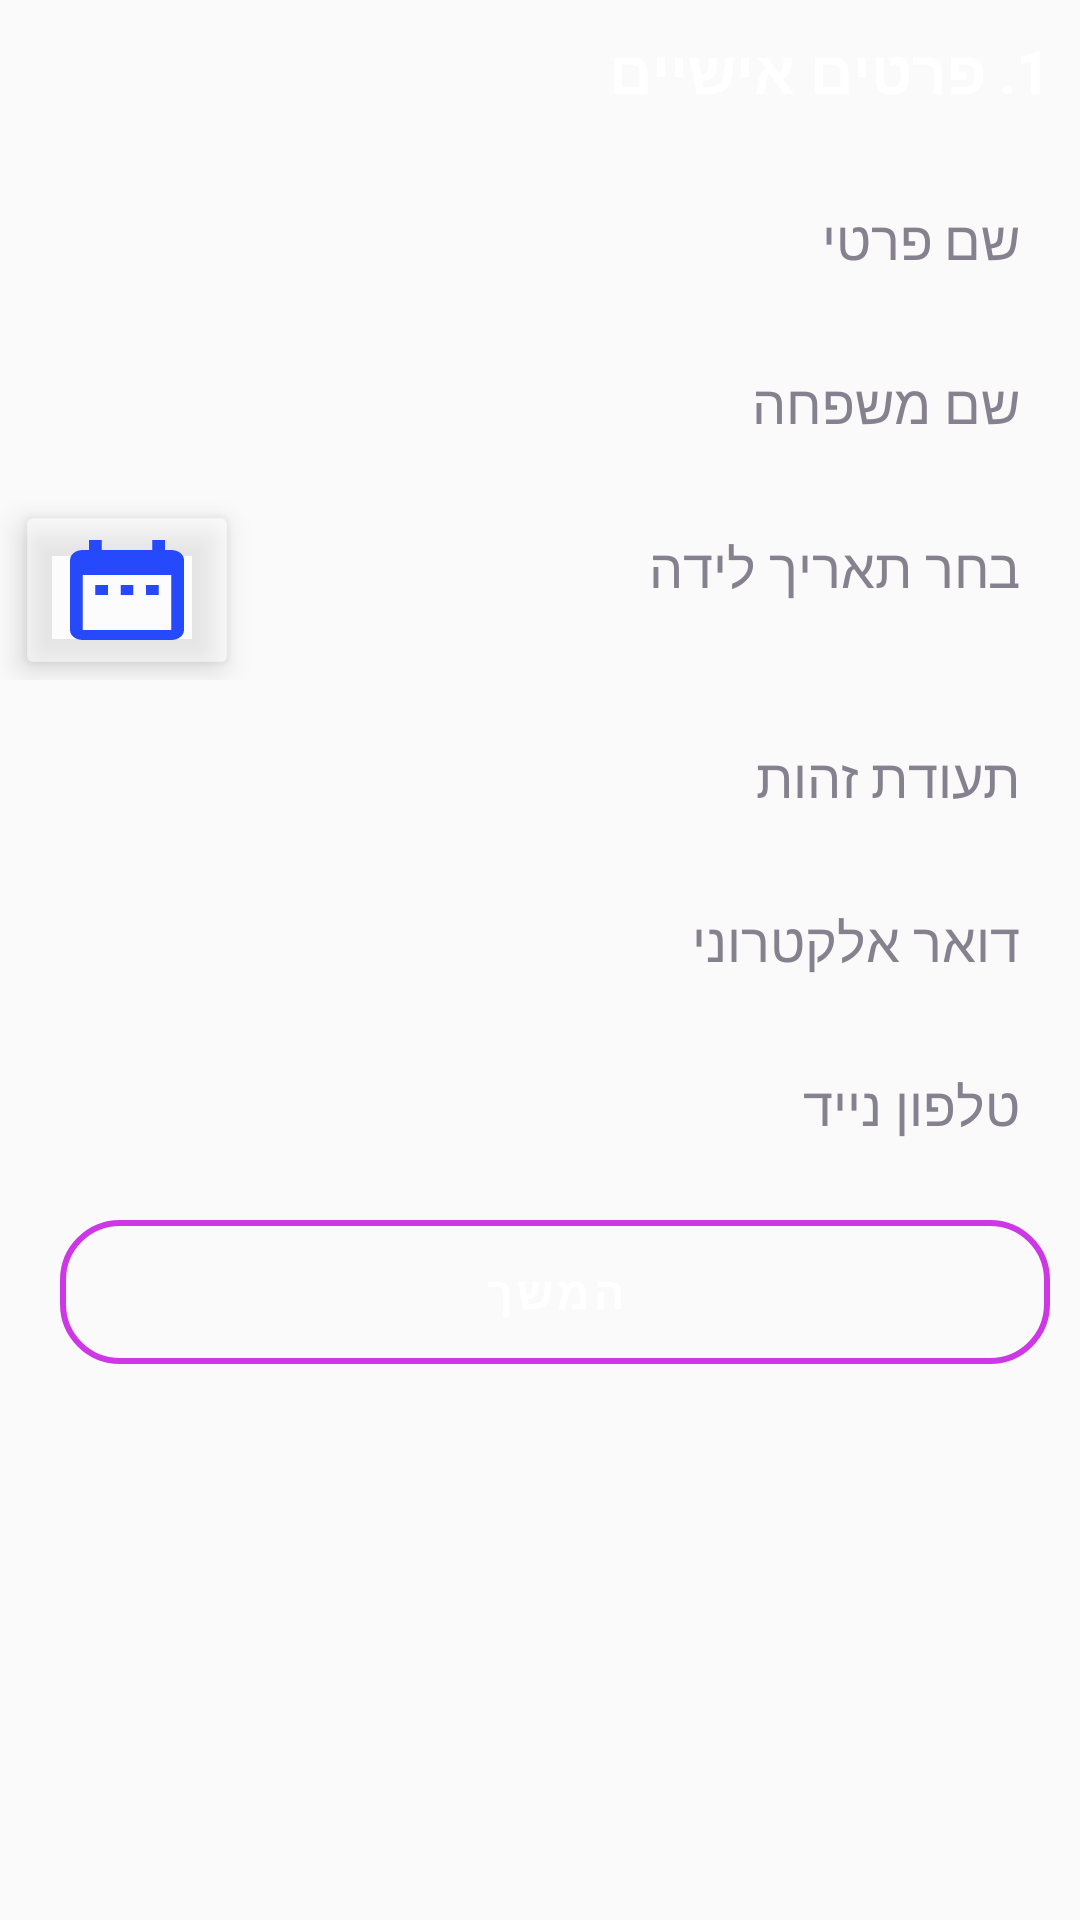

Icon click points for this 1080w x 1920h phone screenshot, format (x=x, y=y):
calender: (x=124, y=594)
